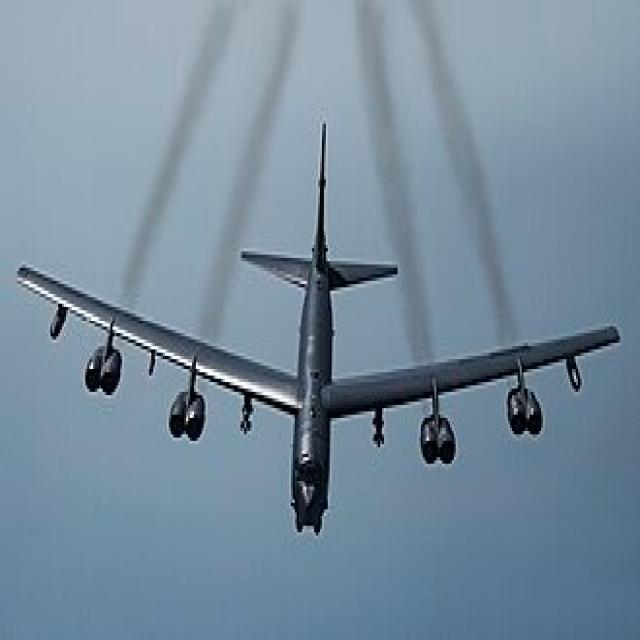B1: (4, 98, 630, 552)
